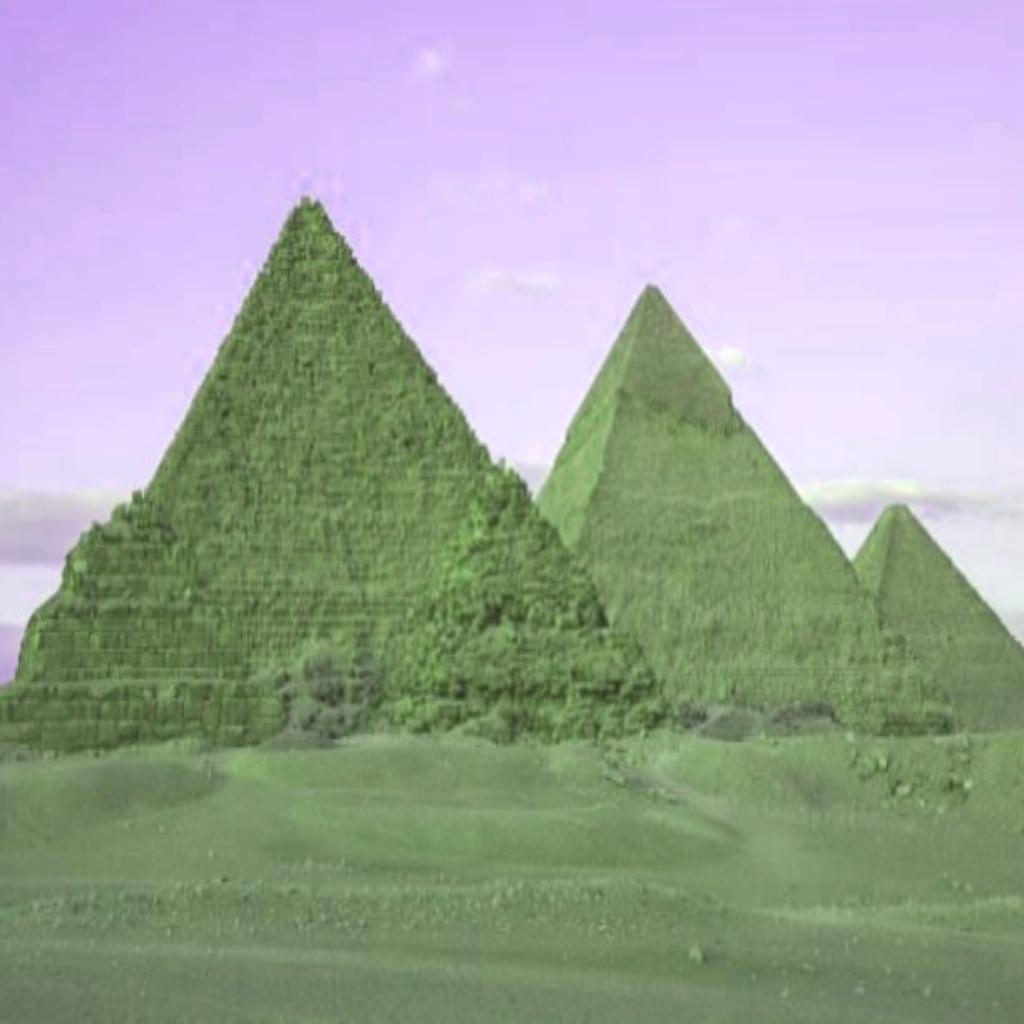Great Pyramids of Giza: (0, 184, 1022, 758)
